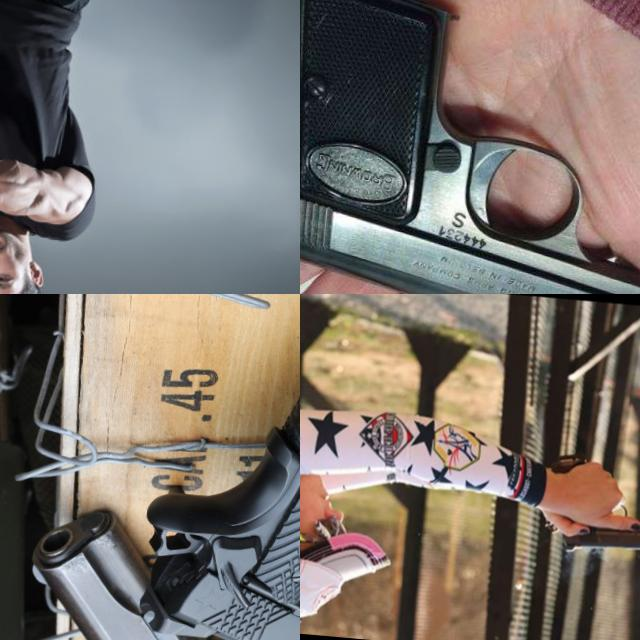handgun: (300, 0, 640, 294), (128, 294, 300, 640), (540, 450, 640, 562), (0, 169, 44, 234)
